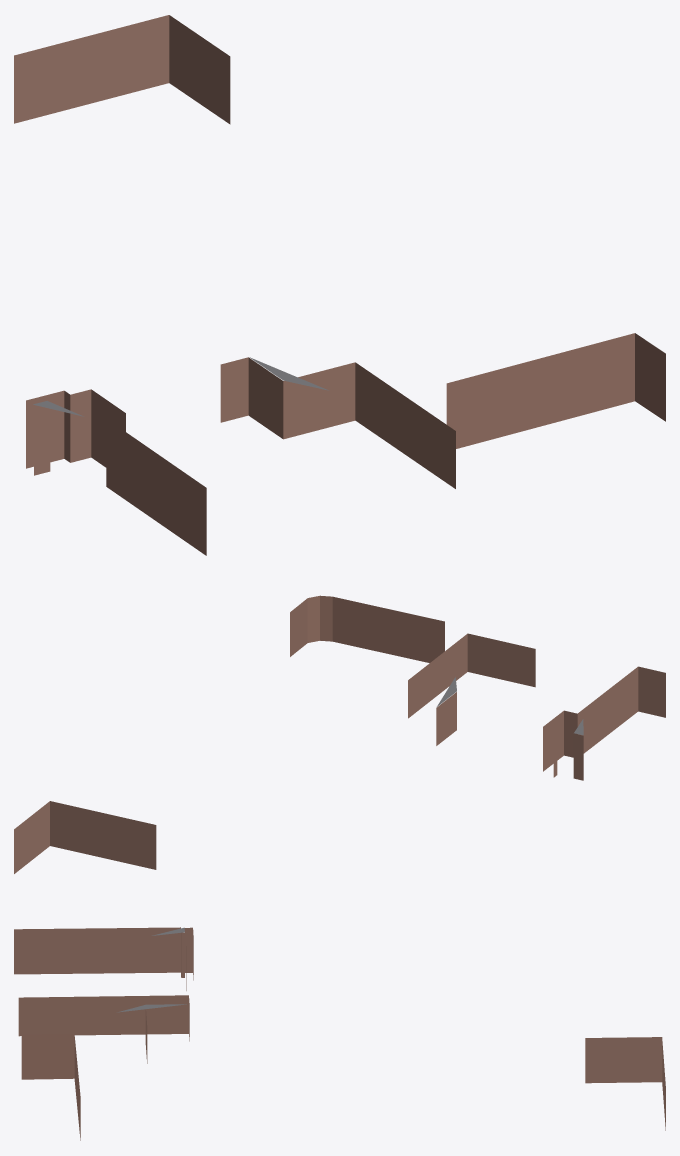
The model's file is c_1634_17826_buildings_residential.glb.
3 views of the same model, one above another, from view 1: azimuth 30°, elevation 25°; view 2: azimuth 150°, elevation 25°; view 3: azimuth 270°, elevation 25° (orthographic). The views are drawn at different scales.
Visible parts, largest first — view 1: geometry_0; view 2: geometry_0; view 3: geometry_0.
Part boxes in pixels (bbox=[...]): geometry_0: bbox=[14, 15, 665, 555]; geometry_0: bbox=[14, 595, 665, 873]; geometry_0: bbox=[14, 927, 665, 1140].
Size of the model in its own units: 88.9 by 11.42 by 144.
